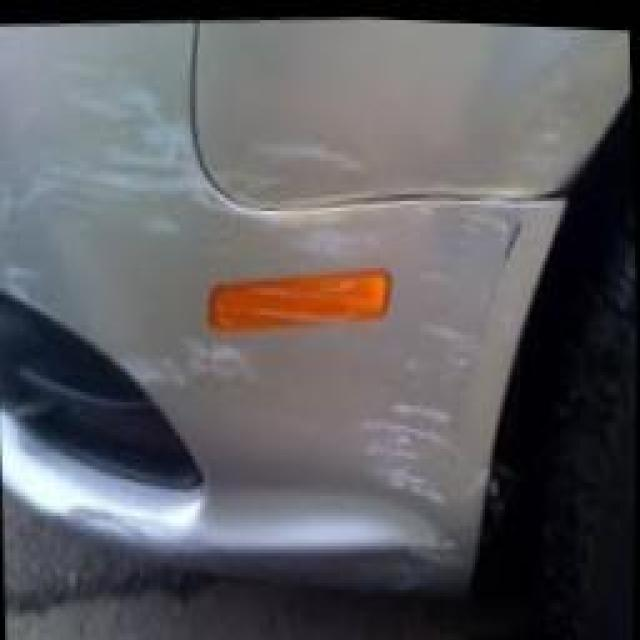Bumper: (39, 195, 565, 590)
